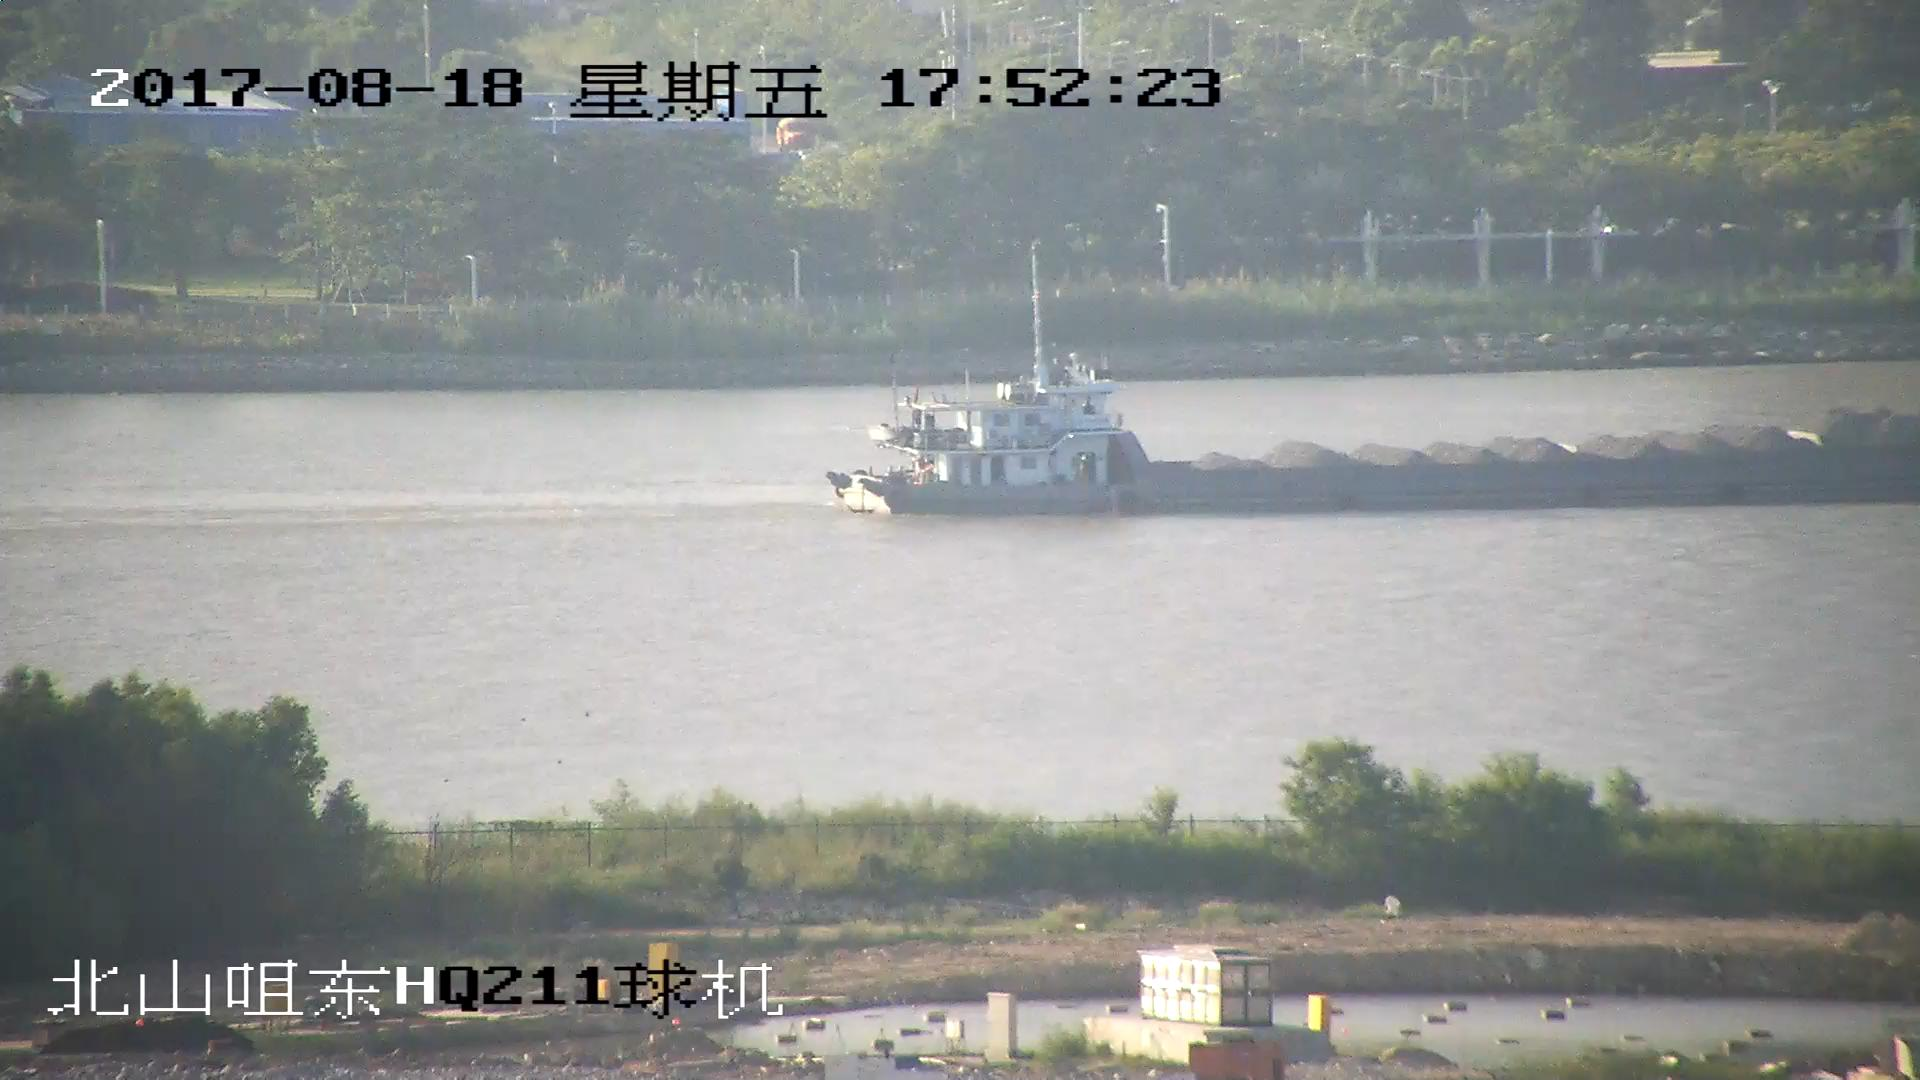ore carrier: (827, 282, 1920, 517)
